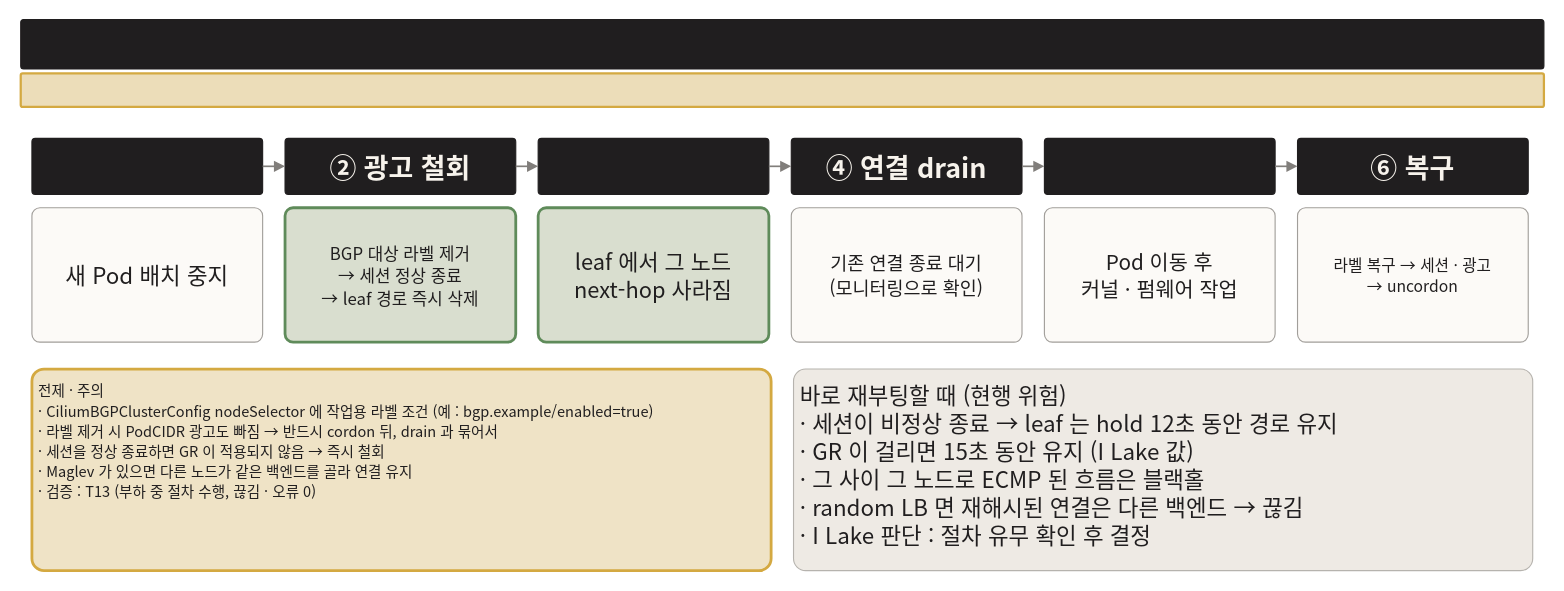
Some shapes in this 1564 by 591 pixel diagram are drawn without their labels. The shapes that lost their labels are listed below. From the top down, each one's box as (x1, y1, x2, y2) in pixels, then its label:
(20, 18, 1544, 69): 그림 9-2. 노드 작업 절차 : 광고 철회 → drain → 작업 → 복구
(19, 72, 1544, 108): 바로 재부팅하면 BGP hold(12초) 또는 GR(15초) 동안 그 노드로 가는 트래픽이 사라짐 → 광고부터 먼저 거둠
(31, 137, 263, 194): ① cordon
(537, 137, 769, 194): ③ 경로 확인
(1043, 137, 1275, 194): ⑤ drain · 작업
